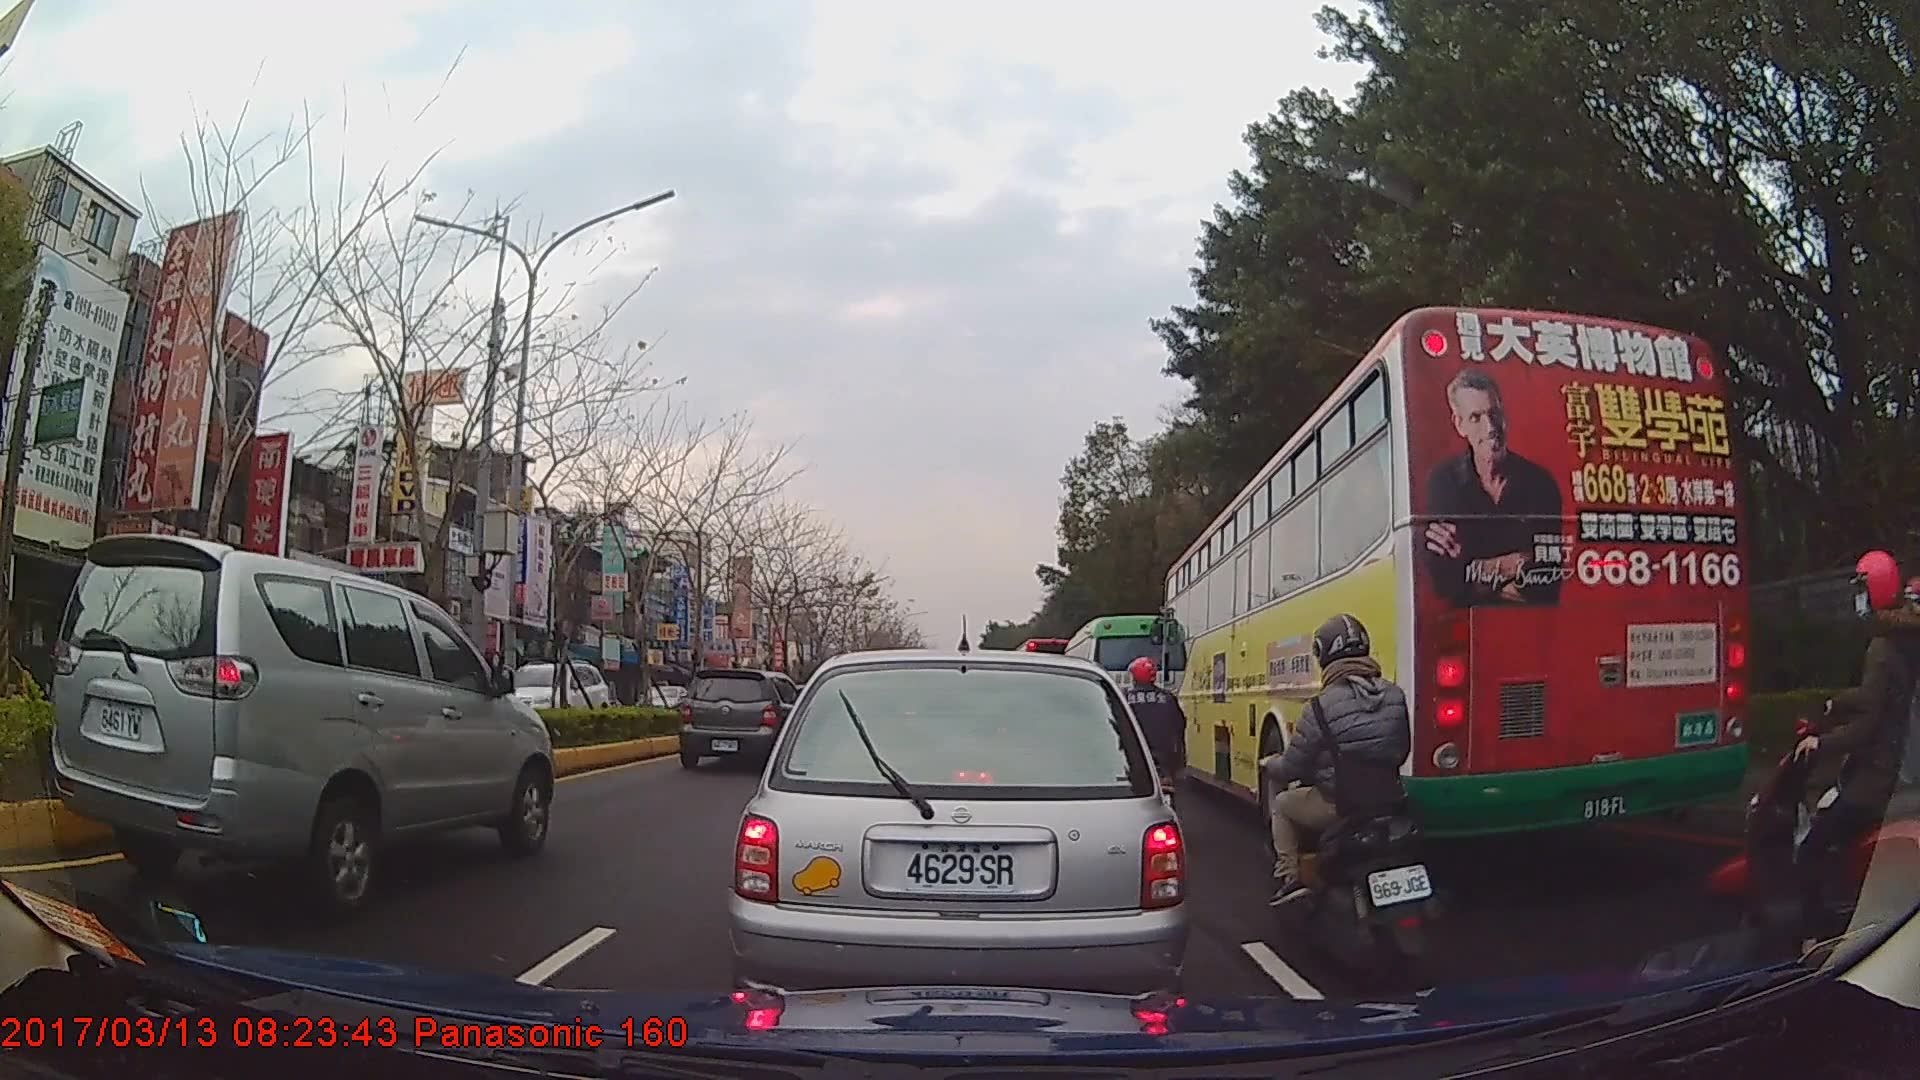rider: (1701, 554, 1913, 970), (1261, 607, 1432, 979), (1107, 656, 1187, 820)
vehicle: (1160, 302, 1753, 855), (47, 531, 553, 912), (730, 645, 1187, 1020), (1063, 613, 1195, 766), (678, 669, 803, 772), (486, 658, 611, 737), (630, 681, 692, 723)
